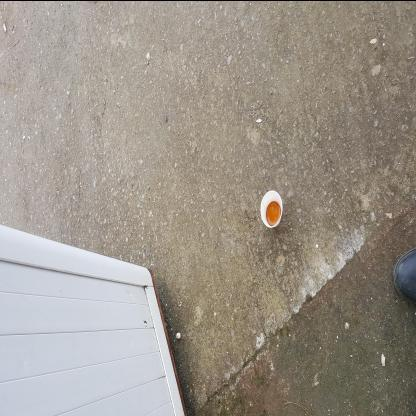karton: (190, 261, 229, 284)
